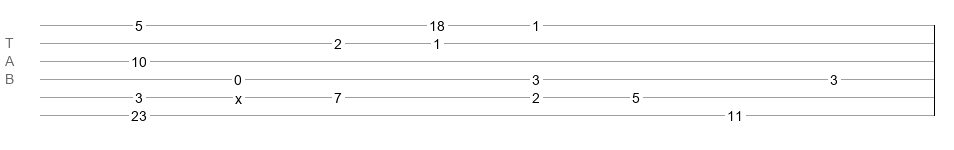0: (234, 72, 242, 82)
1: (433, 36, 441, 46), (532, 18, 540, 28)
10: (131, 54, 147, 64)
11: (727, 108, 743, 118)
18: (429, 18, 445, 28)
2: (334, 36, 342, 46), (532, 90, 540, 100)
23: (131, 108, 147, 118)
3: (135, 90, 143, 100), (532, 72, 540, 82), (830, 72, 838, 82)
5: (135, 18, 143, 28), (632, 90, 640, 100)
7: (334, 90, 342, 100)
x: (235, 91, 242, 99)
